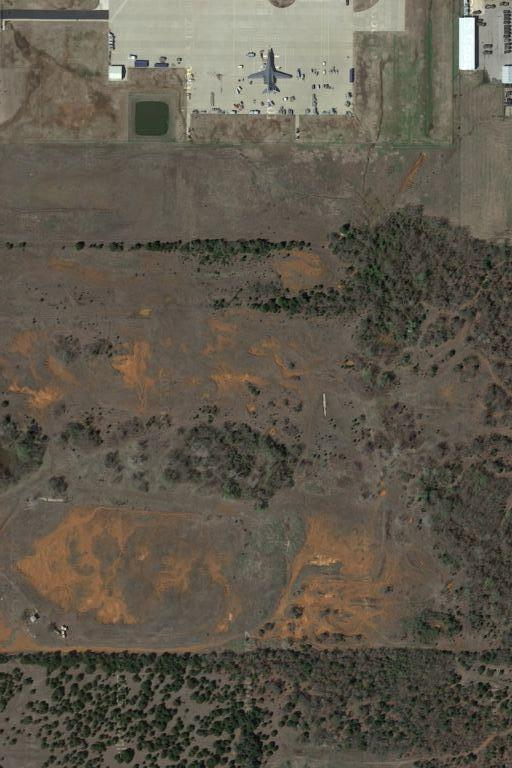B-1B: (246, 46, 295, 99)
